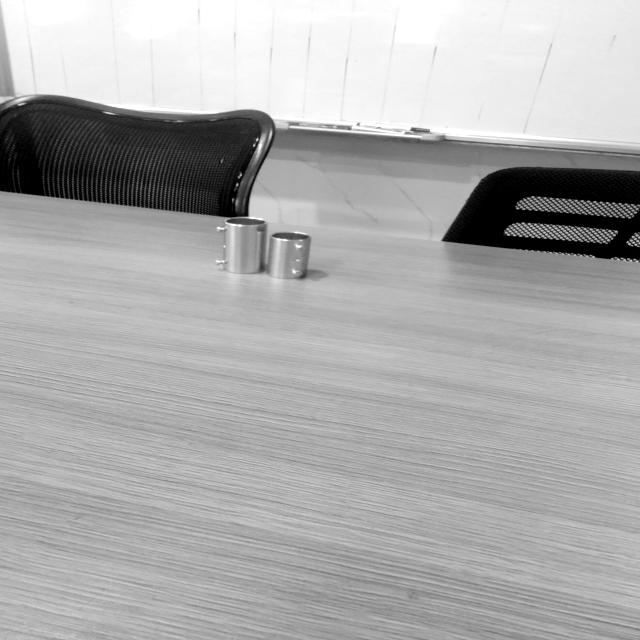Co_Lon: (219, 216, 268, 275)
Co_Nho: (267, 231, 311, 280)
